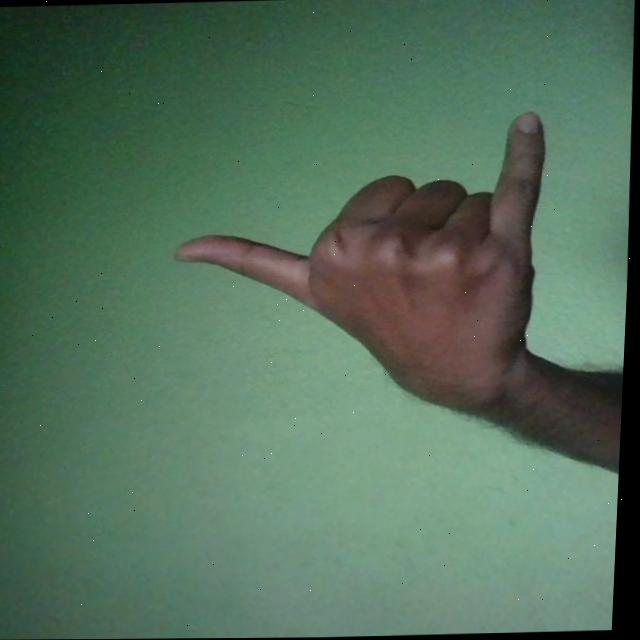Call Me: (167, 110, 551, 422)
